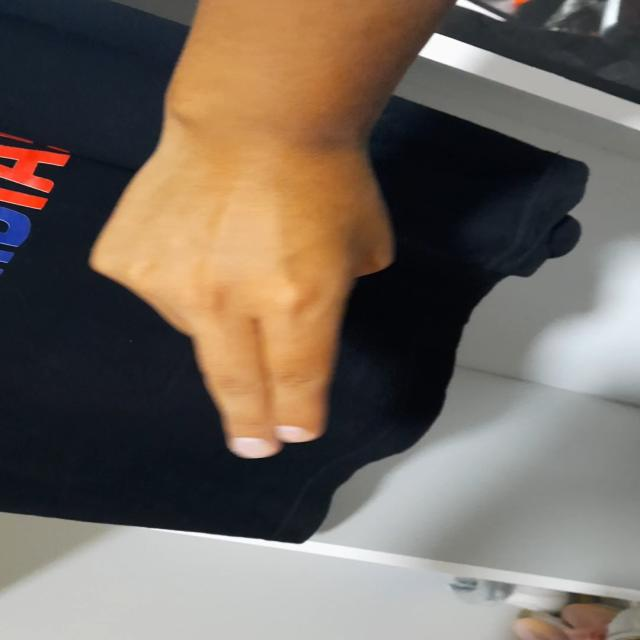A: (73, 138, 460, 466)
